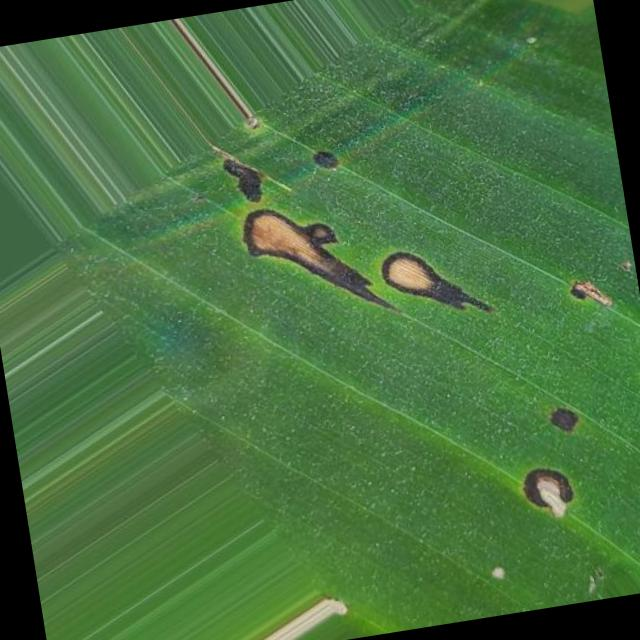Banana_Black_Sigatoka: (207, 80, 502, 378), (483, 395, 621, 544)
